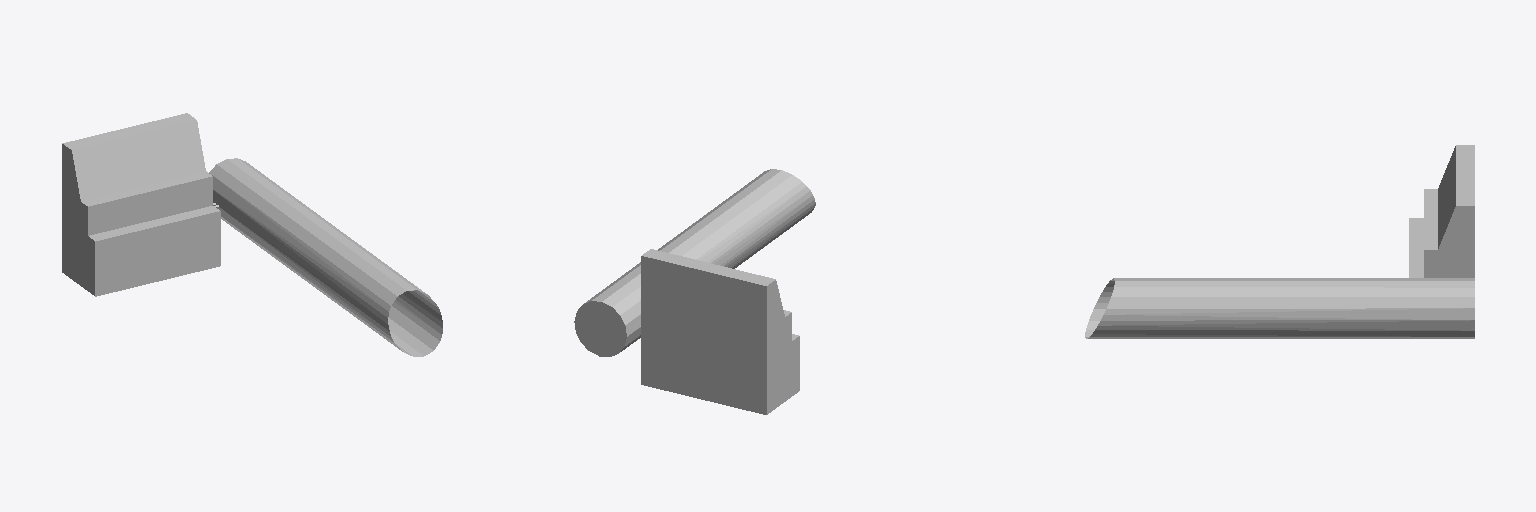
The model's file is incinerateur.obj.
3 views of the same model, side by side, from view 1: azimuth 30°, elevation 25°; view 2: azimuth 150°, elevation 25°; view 3: azimuth 270°, elevation 25° (orthographic).
Parts seen in each view (by area): view 1: object_3.005, object_6.002, object_1.006; view 2: object_3.005, object_6.002, object_1.006; view 3: object_6.002, object_3.005, object_2.004.
Boxes of the visible parts, box(x1,y1,x2,y2) form: object_3.005: box(62, 113, 220, 296); object_6.002: box(209, 158, 442, 356); object_1.006: box(62, 144, 94, 295); object_3.005: box(641, 249, 798, 414); object_6.002: box(574, 169, 815, 356); object_1.006: box(767, 280, 799, 414); object_6.002: box(1085, 278, 1474, 338); object_3.005: box(1409, 145, 1474, 277); object_2.004: box(1424, 206, 1474, 277).
Bounding box in the file's own units: 24.28 × 15.58 × 42.68.